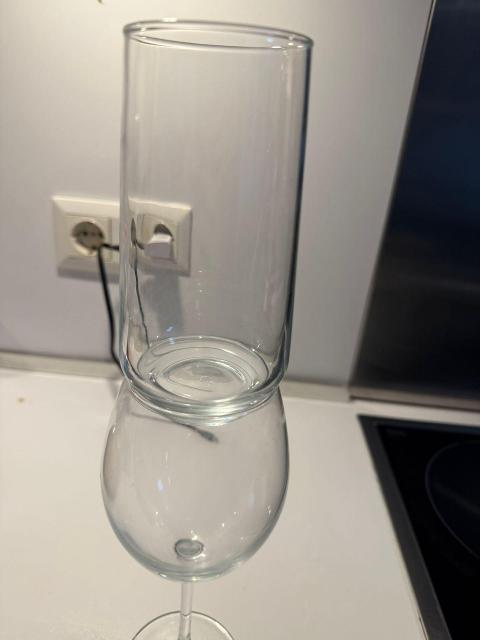Cam: (115, 19, 300, 395), (97, 355, 295, 640)
